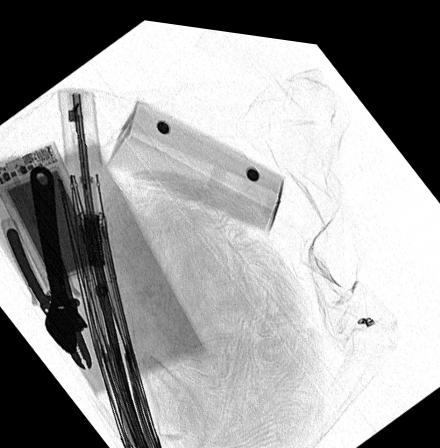Pliers: (3, 211, 92, 367)
Powerbank: (0, 138, 113, 293)
Wrench: (27, 164, 86, 350)
